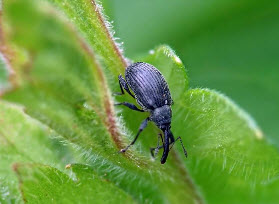dolgonosik: (114, 61, 195, 166)
